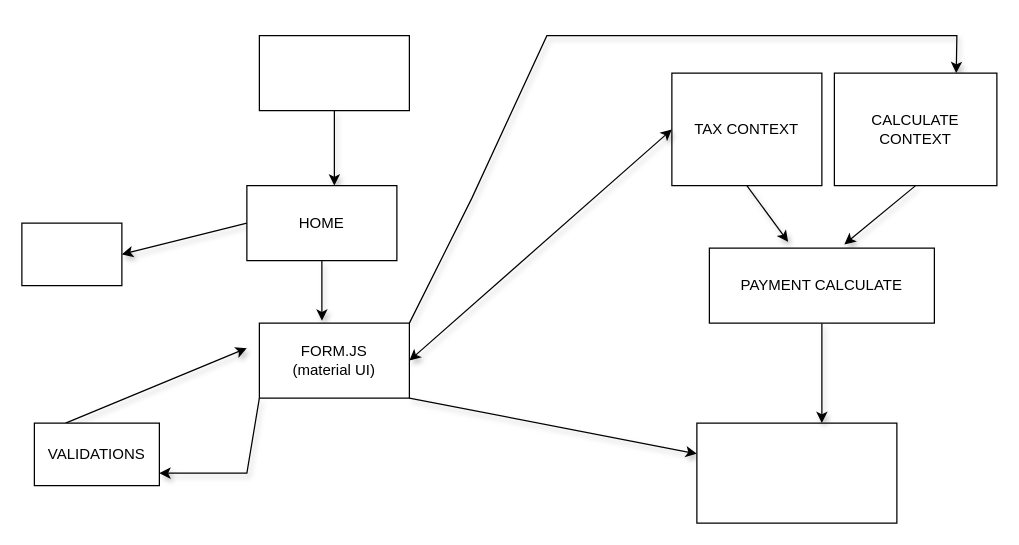
The diagram is 1019 pixels wide and 545 high, and some of its shapes have lost their labels. Each missing label, with the centre of its shape:
"APP.JS (ROUTER)" belongs at (333,72).
"MODAL (antDesign)" belongs at (796,472).
"SWIPER.JS" belongs at (71,254).
